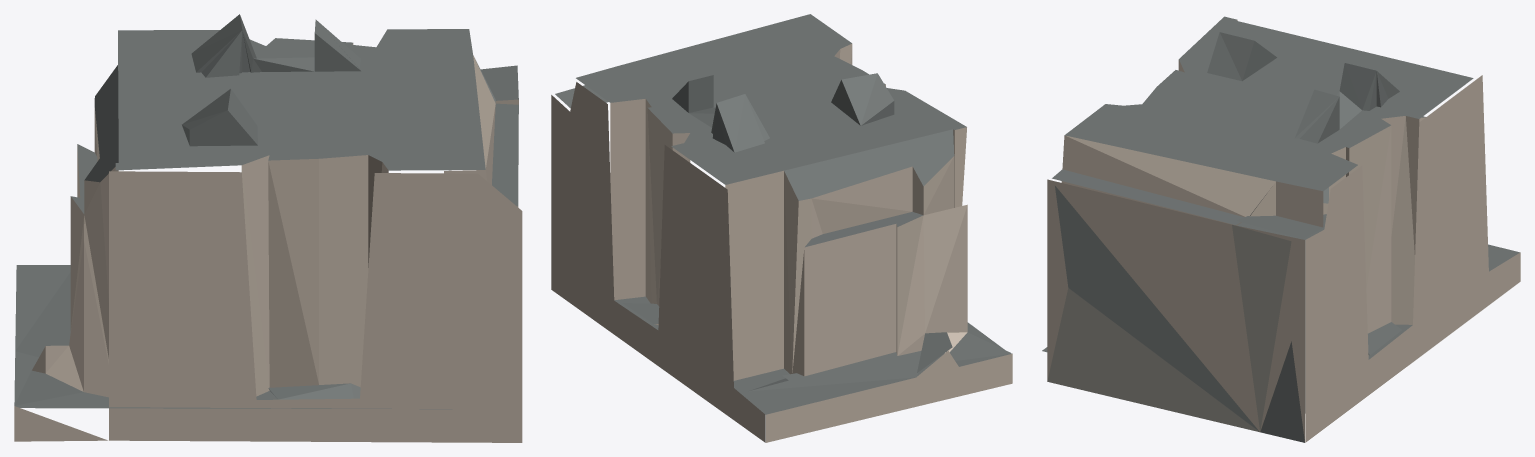
The picture shows the model from 3 angles, left to right: view 1: azimuth 30°, elevation 25°; view 2: azimuth 150°, elevation 25°; view 3: azimuth 270°, elevation 25°; orthographic projection. The views are drawn at different scales.
Visible parts, largest first — view 1: lod2; view 2: lod2; view 3: lod2.
Part boxes in pixels (x1,y1,x2,y2): lod2: (14,14,522,442); lod2: (551,14,1012,442); lod2: (1042,16,1520,442).
Bounding box in the file's own units: 40.4 × 22.82 × 36.43.
